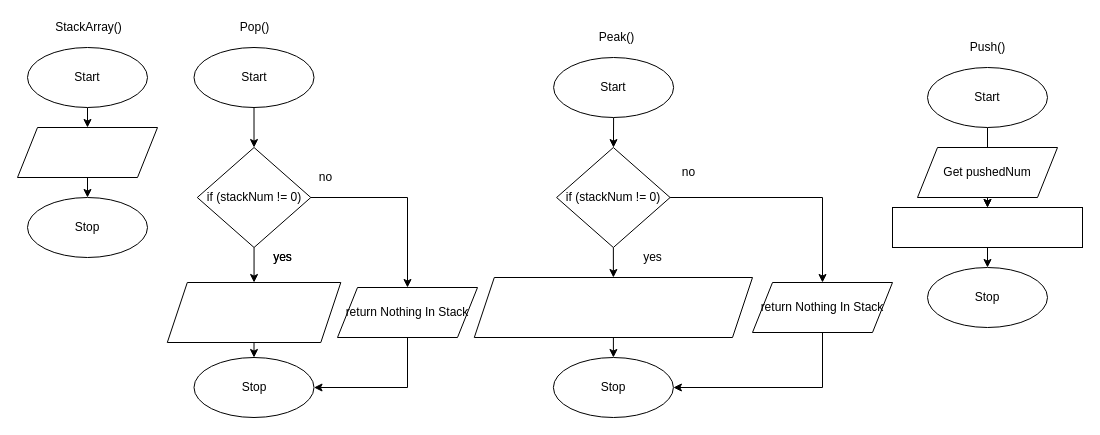
The diagram is 1100 pixels wide and 435 high, and some of its shapes have lost their labels. Each missing label, with the centre of its shape:
return stackClass: point (87, 152)
return this,stackClass[this.stackClass.length-1]: point (612, 307)
return this.stackClass.pop(): point (253, 312)
this.stackClass.push(pushedNum): point (987, 227)
